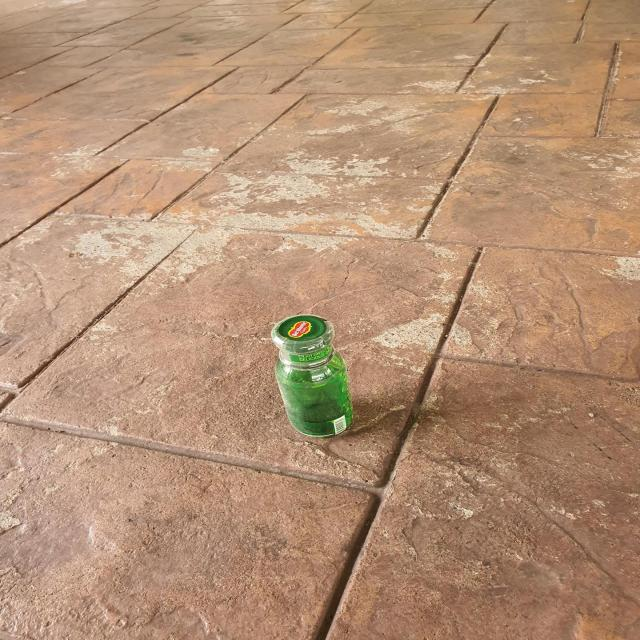glass: (271, 315, 352, 438)
